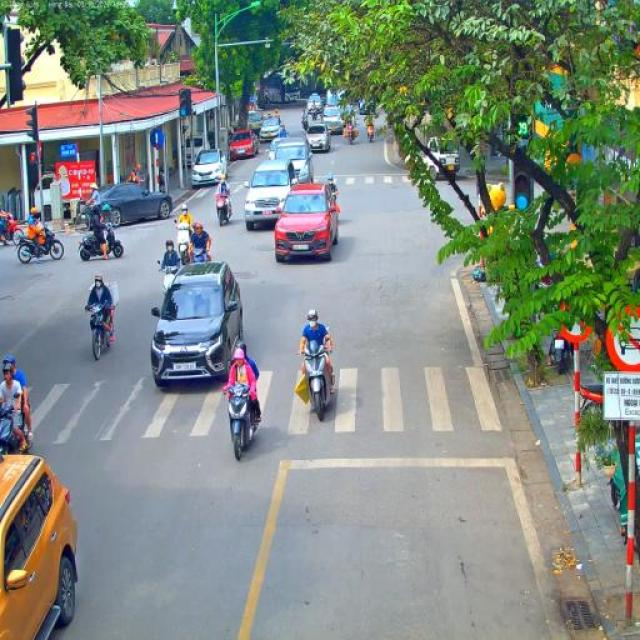car: (0, 452, 79, 640), (150, 259, 245, 389), (272, 182, 338, 263), (243, 158, 299, 231), (86, 182, 173, 228), (274, 136, 314, 184), (192, 148, 228, 187), (226, 129, 258, 161), (305, 121, 331, 153), (321, 104, 344, 136), (260, 117, 282, 143), (267, 138, 281, 162), (308, 95, 324, 115)
motorcycle: (222, 383, 262, 461), (300, 341, 335, 422), (0, 392, 32, 459), (15, 224, 64, 264), (78, 220, 124, 261), (86, 303, 114, 362), (548, 323, 572, 375), (1, 214, 30, 246), (158, 258, 180, 298), (174, 222, 192, 266), (580, 382, 604, 413), (214, 189, 232, 227), (188, 248, 210, 264), (332, 190, 340, 212), (348, 125, 357, 144), (301, 116, 309, 132), (367, 126, 374, 142), (311, 108, 318, 121)
truck: (422, 134, 460, 181), (246, 110, 264, 138), (284, 75, 301, 103)
